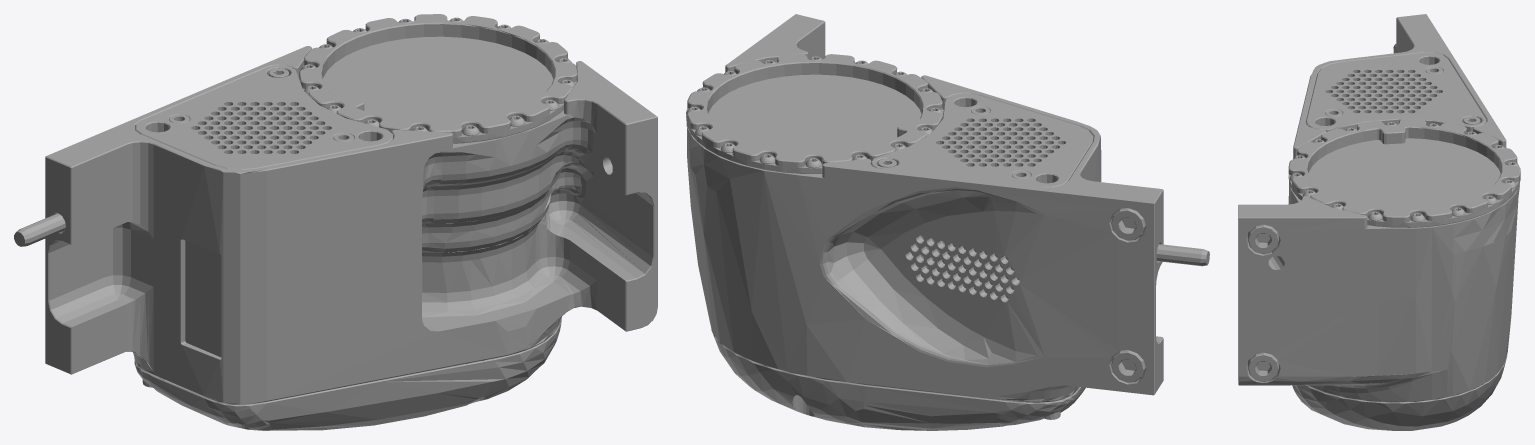
The model's file is shoulder-roll-housing.obj.
3 renders of one model, left to right at view 1: azimuth 30°, elevation 25°; view 2: azimuth 150°, elevation 25°; view 3: azimuth 270°, elevation 25°, orthographic. The views are drawn at different scales.
Visible parts, largest first — view 1: shoulder-roll-housing; view 2: shoulder-roll-housing; view 3: shoulder-roll-housing.
Part boxes in pixels (x1,y1,x2,y2): shoulder-roll-housing: (14, 14, 657, 430); shoulder-roll-housing: (686, 14, 1209, 430); shoulder-roll-housing: (1238, 14, 1520, 430).
Bounding box in the file's own units: 0.1671 × 0.0889 × 0.09.
1 material, 1 textured.
